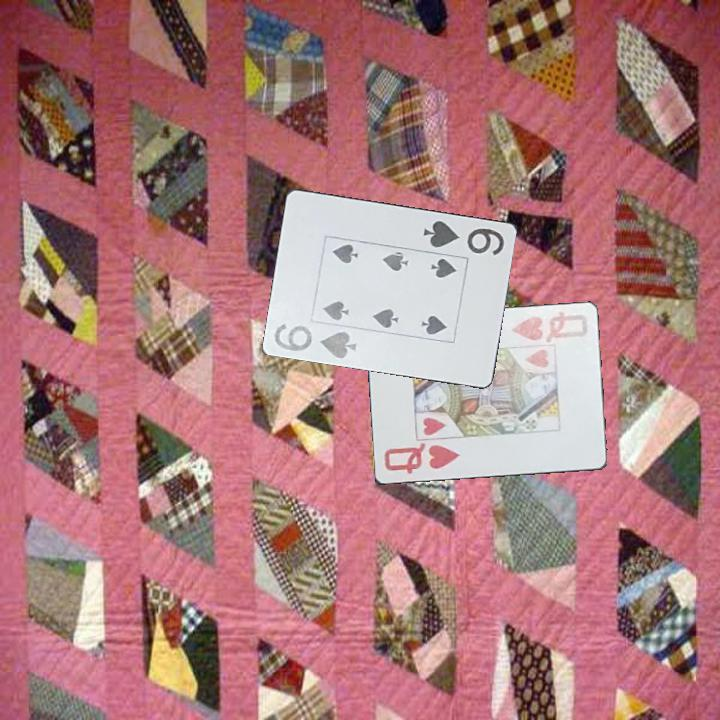6s: (271, 319, 360, 361), (420, 216, 508, 258)
Qh: (379, 439, 463, 478), (508, 309, 590, 346)
